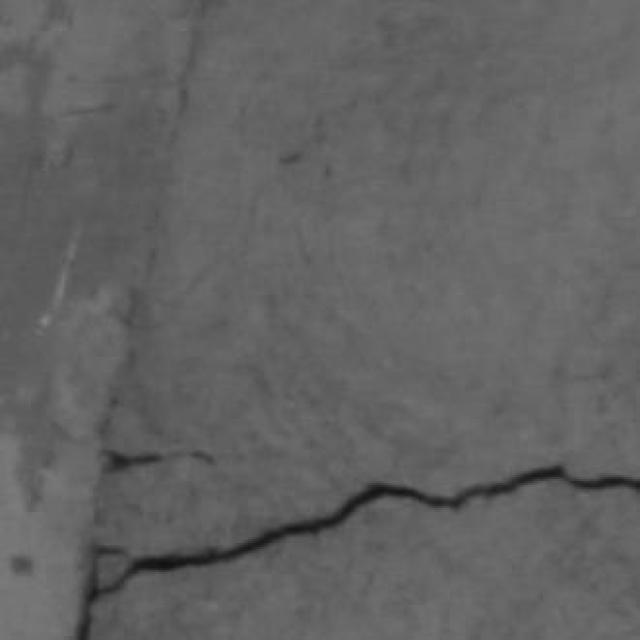crack: (94, 466, 639, 601), (103, 450, 215, 475)
